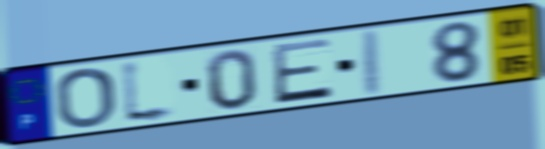0: (203, 46, 260, 113)
8: (426, 19, 483, 85)
E: (268, 35, 335, 107)
I: (360, 26, 385, 100)
L: (119, 55, 181, 128)
O: (53, 65, 117, 130)
